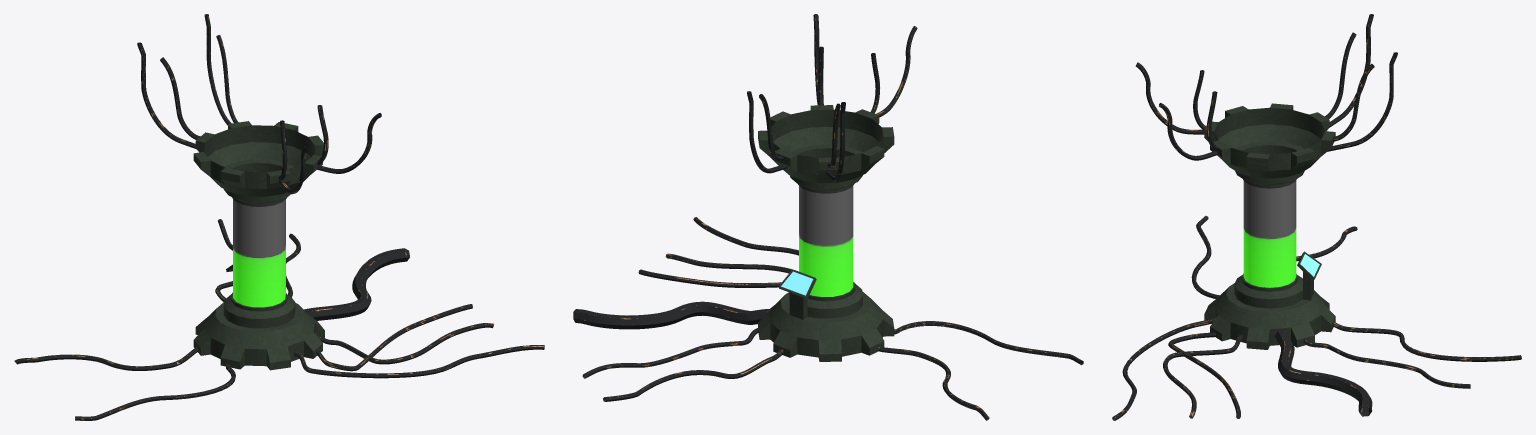
The picture shows the model from 3 angles, left to right: view 1: azimuth 30°, elevation 25°; view 2: azimuth 150°, elevation 25°; view 3: azimuth 270°, elevation 25°; orthographic projection. The views are drawn at different scales.
Parts seen in each view (by area): view 1: Capsule; view 2: Capsule; view 3: Capsule.
Boxes of the visible parts, bbox=[...] form: Capsule: bbox=[14, 14, 544, 420]; Capsule: bbox=[573, 14, 1083, 420]; Capsule: bbox=[1112, 14, 1521, 420].
Size of the model in its own units: 2007 by 1278 by 1701.
Materials: 4 (4 with a texture image).
